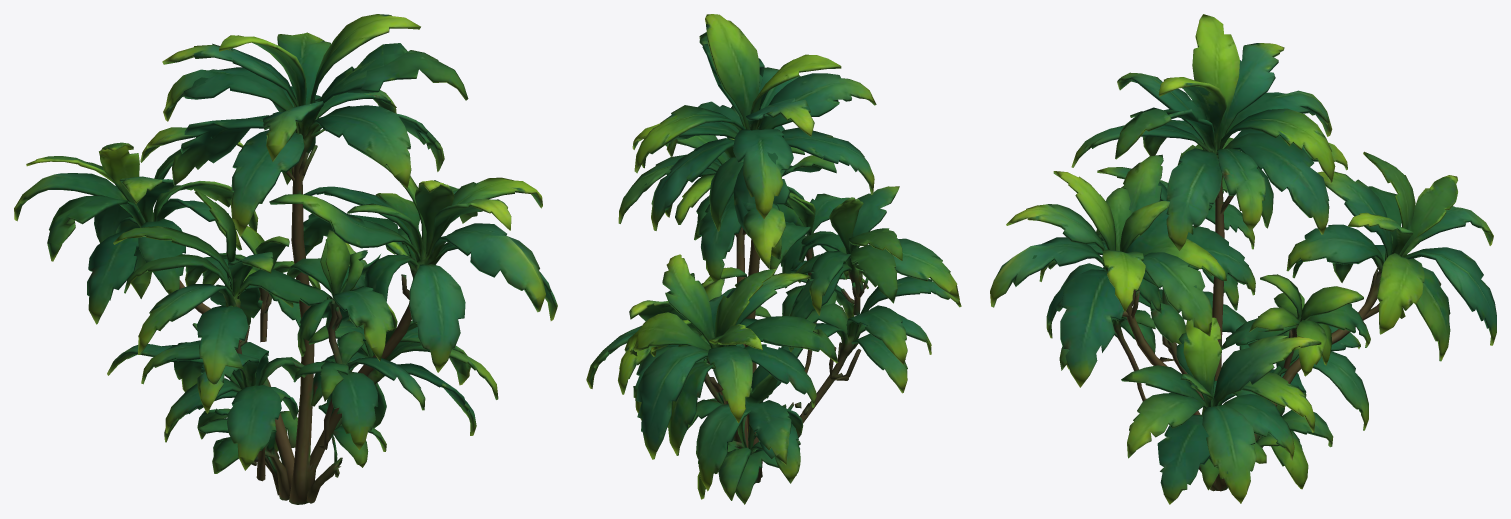
The model's file is pack-tree-1.glb.
The picture shows the model from 3 angles, left to right: view 1: azimuth 30°, elevation 25°; view 2: azimuth 150°, elevation 25°; view 3: azimuth 270°, elevation 25°; orthographic projection. The views are drawn at different scales.
Parts seen in each view (by area): view 1: tripo_node_8ee1aa13-e985-4170-ac37-57fe6a16c5bd; view 2: tripo_node_8ee1aa13-e985-4170-ac37-57fe6a16c5bd; view 3: tripo_node_8ee1aa13-e985-4170-ac37-57fe6a16c5bd.
Part boxes in pixels (<box>): tripo_node_8ee1aa13-e985-4170-ac37-57fe6a16c5bd: <box>14,14,557,504</box>; tripo_node_8ee1aa13-e985-4170-ac37-57fe6a16c5bd: <box>586,14,961,504</box>; tripo_node_8ee1aa13-e985-4170-ac37-57fe6a16c5bd: <box>990,14,1496,504</box>.
Bounding box in the file's own units: 0.7788 × 0.9281 × 0.9779.
Materials: 1 (1 with a texture image).
